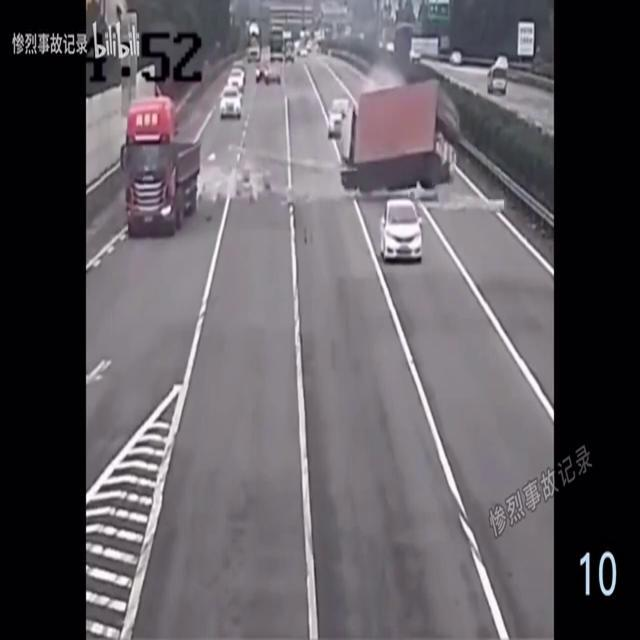multiple_accident: (288, 50, 502, 202)
normal: (97, 73, 250, 258), (337, 175, 435, 303)
